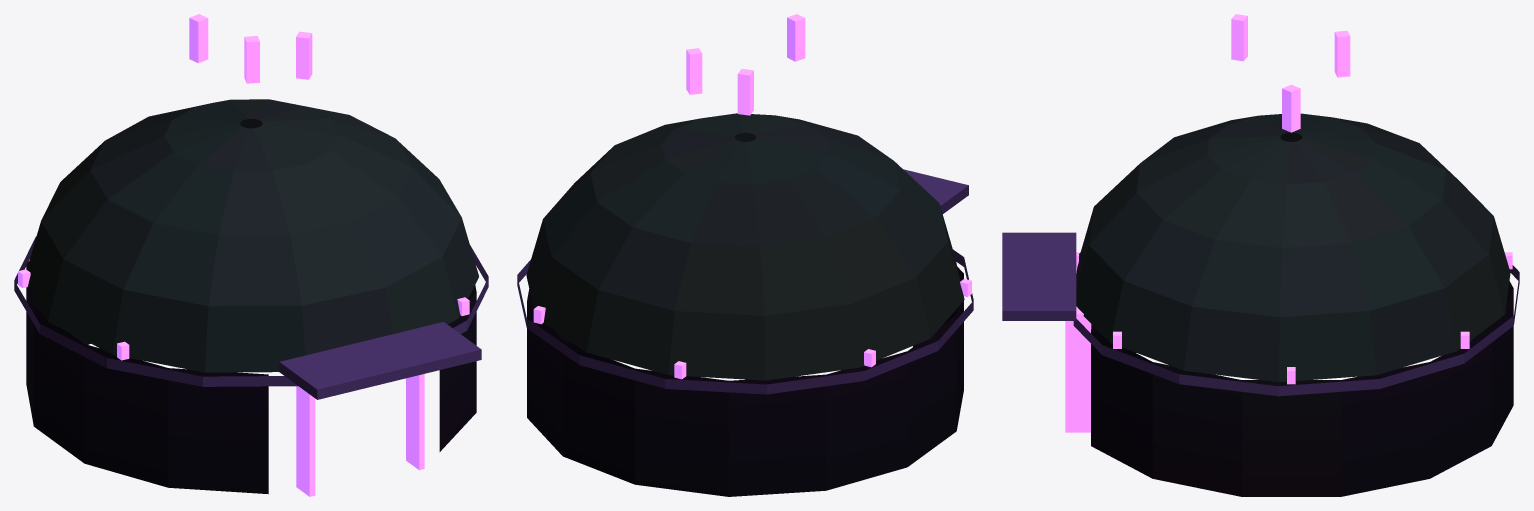
File: shaddai_dist_void_home_a_v01.glb
3 views of the same model, side by side, from view 1: azimuth 30°, elevation 25°; view 2: azimuth 150°, elevation 25°; view 3: azimuth 270°, elevation 25° (orthographic). The views are drawn at different scales.
Parts seen in each view (by area): view 1: shaddai_dist_void_home_a; view 2: shaddai_dist_void_home_a; view 3: shaddai_dist_void_home_a.
Boxes of the visible parts, bbox=[...] form: shaddai_dist_void_home_a: bbox=[14, 14, 488, 496]; shaddai_dist_void_home_a: bbox=[517, 14, 973, 496]; shaddai_dist_void_home_a: bbox=[1002, 14, 1519, 496].
Bounding box in the file's own units: 12.48 × 11.18 × 13.96.
